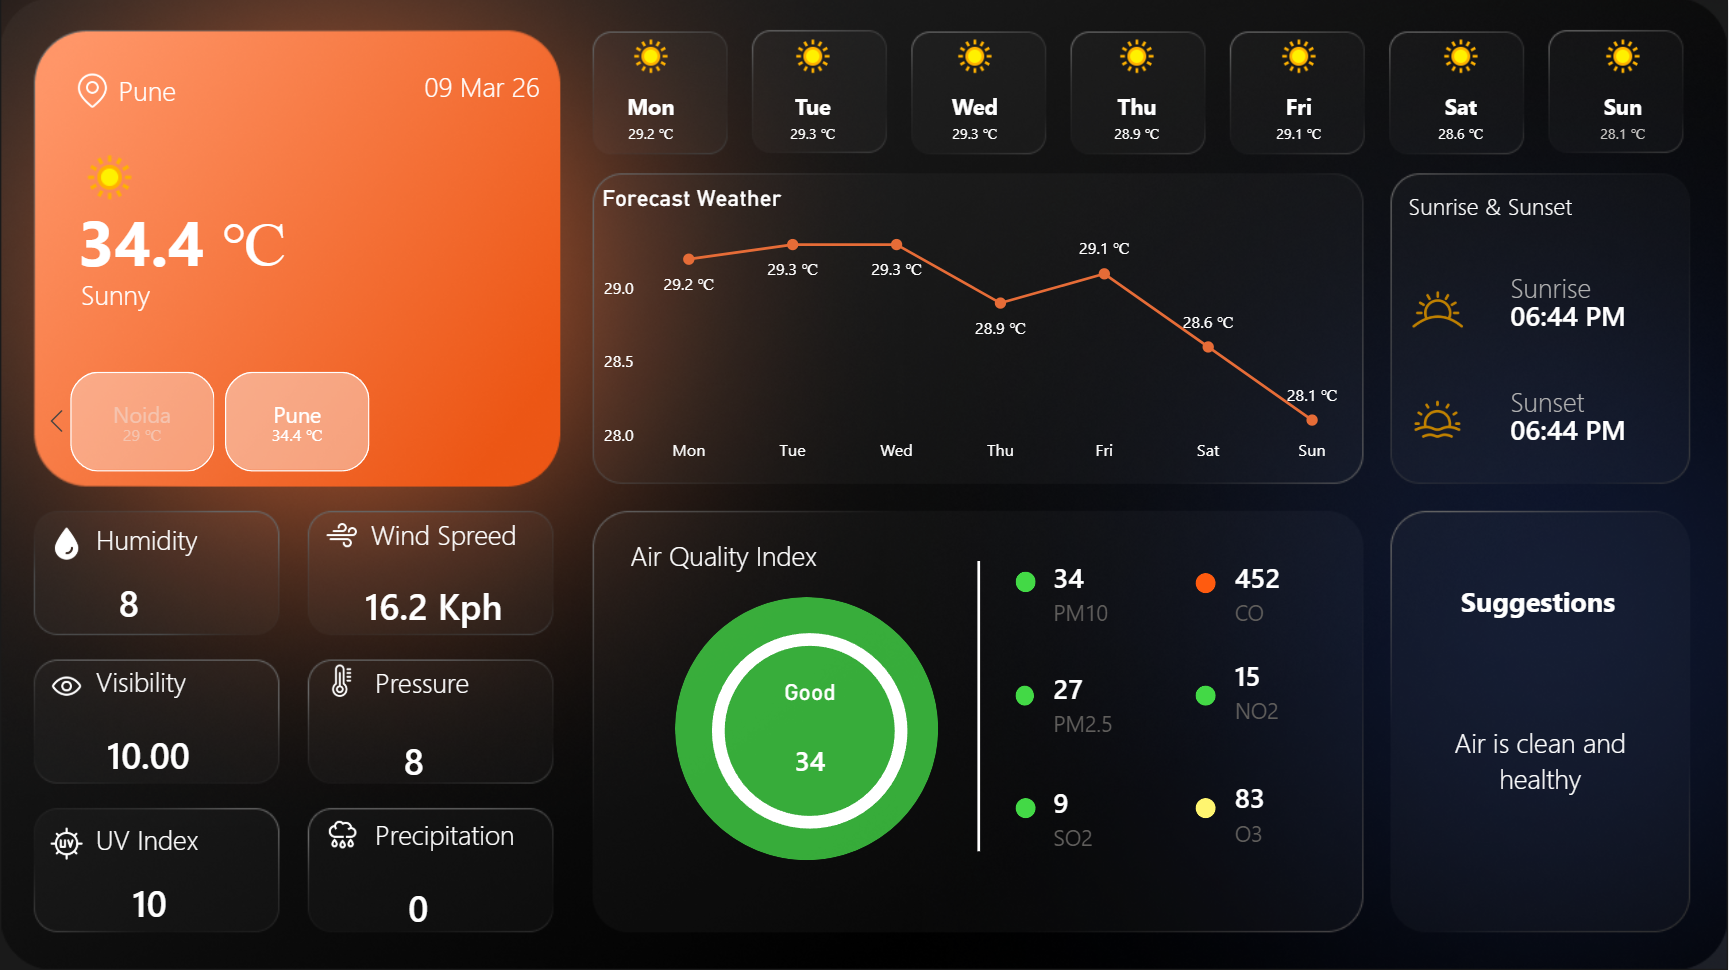

This screenshot's page, from the dashboard's own definition file:
{"tool":"powerbi","page":{"name":"Page 1","canvas":[1280,720],"ordinal":0},"visuals":[{"type":"shape","box":[500.2,442.2,195,195],"z":0},{"type":"advancedSlicerVisual","fields":{"Values":["Locations.location.name"]},"box":[27,270,387,84],"z":1000},{"type":"shape","box":[49.9,123.4,216.2,110],"z":2000},{"type":"shape","box":[58.2,202.7,216.4,30.9],"z":3000},{"type":"shape","box":[312.7,49.1,216.4,30.9],"z":4000},{"type":"shape","box":[85.6,51.1,216.7,31.7],"z":5000},{"type":"image","box":[51.1,54.4,34.4,25.6],"z":6000},{"type":"cardVisual","fields":{"Data":["Min(Current.current.condition.icon)"]},"box":[11.7,26.7,138.3,151.7],"z":7000},{"type":"shape","box":[68.3,488.3,215,31.7],"z":8000},{"type":"image","box":[36.7,495,25,25],"z":9000},{"type":"image","box":[36.7,390,25,25],"z":10000},{"type":"shape","box":[68.3,383.3,215,31.7],"z":11000},{"type":"image","box":[36.7,611.7,25,25],"z":12000},{"type":"shape","box":[68.3,605,215,31.7],"z":13000},{"type":"image","box":[241.4,384,24,24],"z":14000},{"type":"shape","box":[272,380,214,32],"z":15000},{"type":"image","box":[241.4,492,24,24],"z":16000},{"type":"shape","box":[276,490,214,30],"z":17000},{"type":"image","box":[240.9,605,25,25],"z":18000},{"type":"shape","box":[275,601.7,215,31.7],"z":19000},{"type":"cardVisual","fields":{"Data":["Sum(Current.current.humidity)"]},"box":[58.3,400,108.3,90],"z":20000},{"type":"cardVisual","fields":{"Data":["Sum(Current.current.vis_km)"]},"box":[50,511.7,135,90],"z":21000},{"type":"cardVisual","fields":{"Data":["Sum(Current.current.uv)"]},"box":[68.3,621.7,135,90],"z":22000},{"type":"cardVisual","fields":{"Data":["table.Wind_spreed"]},"box":[240.8,402,166,90],"z":23000},{"type":"cardVisual","fields":{"Data":["Sum(Current.current.humidity)"]},"box":[269.6,516.7,108.3,90],"z":24000},{"type":"cardVisual","fields":{"Data":["Sum(Current.current.precip_in)"]},"box":[272.9,625,101.7,90],"z":25000},{"type":"advancedSlicerVisual","fields":{"Values":["Forecast By Days.Day_name"]},"box":[421.2,13.8,847.5,110],"z":26000},{"type":"lineChart","title":"Forecast Weather","fields":{"Category":["Forecast By Days.Day_name"],"Y":["Sum(Forecast By Days.forecast.forecastday.day.avgtemp_c)"]},"box":[441.2,136.2,566.2,215],"z":27000},{"type":"shape","box":[1041.2,136.2,215,31.2],"z":28000},{"type":"shape","box":[1115,191.2,145,42.5],"z":29000},{"type":"shape","box":[1115,212.5,145,42.5],"z":30000},{"type":"shape","box":[1115,275,145,42.5],"z":31000},{"type":"shape","box":[1115,296.2,145,42.5],"z":32000},{"type":"image","box":[1048,292,34,36],"z":33000},{"type":"image","box":[1040,202,50,54],"z":34000},{"type":"shape","box":[464,396,214,32],"z":35000},{"type":"cardVisual","fields":{"Data":["Sum(Current.current.air_quality.co)"]},"box":[885.6,388.9,122.2,100],"z":36000},{"type":"cardVisual","fields":{"Data":["Sum(Current.current.air_quality.no2)"]},"box":[885.6,461.1,122.2,100],"z":37000},{"type":"cardVisual","fields":{"Data":["Sum(Current.current.air_quality.o3)"]},"box":[885.6,552.2,122.2,100],"z":38000},{"type":"cardVisual","fields":{"Data":["Sum(Current.current.air_quality.pm10)"]},"box":[751.1,388.9,122.2,100],"z":39000},{"type":"cardVisual","fields":{"Data":["Sum(Current.current.air_quality.pm2_5)"]},"box":[751.1,471.1,122.2,100],"z":40000},{"type":"cardVisual","fields":{"Data":["Sum(Current.current.air_quality.so2)"]},"box":[751.1,555.6,122.2,100],"z":41000},{"type":"shape","box":[751.7,423.7,15,15.4],"z":42000},{"type":"shape","box":[752.3,507.5,13.8,15],"z":43000},{"type":"shape","box":[751.7,591.2,15,15],"z":44000},{"type":"shape","box":[885,423.9,15,15],"z":45000},{"type":"shape","box":[885,507.5,15,15],"z":46000},{"type":"shape","box":[885,591.2,15,15],"z":47000},{"type":"shape","box":[650,415,150,215],"z":48000},{"type":"cardVisual","fields":{"Data":["Sum(Current.current.air_quality.pm10)"]},"box":[540,502,120,100],"z":49000},{"type":"donutChart","fields":{"Y":["Sum(Current.current.air_quality.pm10)","table.Left value Pm10"]},"box":[484,445,230,191],"z":50000},{"type":"shape","box":[1048,472,186,182],"z":50001},{"type":"shape","box":[1042,416,194,60],"z":50002}]}

Visuals, with their boxes in screenshot pixels (x1, y1, x2, y2), scaled from the page's 1280x720 canvas onto the 1729x970 screenshot:
shape: detection(676, 596, 939, 858)
advancedSlicerVisual - Locations.location.name: detection(36, 364, 559, 477)
shape: detection(67, 166, 359, 314)
shape: detection(79, 273, 371, 315)
shape: detection(422, 66, 715, 108)
shape: detection(116, 69, 408, 112)
image: detection(69, 73, 115, 108)
cardVisual - Min(Current.current.condition.icon): detection(16, 36, 203, 240)
shape: detection(92, 658, 383, 701)
image: detection(50, 667, 83, 701)
image: detection(50, 525, 83, 559)
shape: detection(92, 516, 383, 559)
image: detection(50, 824, 83, 858)
shape: detection(92, 815, 383, 858)
image: detection(326, 517, 358, 550)
shape: detection(367, 512, 656, 555)
image: detection(326, 663, 358, 695)
shape: detection(373, 660, 662, 701)
image: detection(325, 815, 359, 849)
shape: detection(371, 811, 662, 853)
cardVisual - Sum(Current.current.humidity): detection(79, 539, 225, 660)
cardVisual - Sum(Current.current.vis_km): detection(68, 689, 250, 811)
cardVisual - Sum(Current.current.uv): detection(92, 838, 275, 959)
cardVisual - table.Wind_spreed: detection(325, 542, 549, 663)
cardVisual - Sum(Current.current.humidity): detection(364, 696, 510, 817)
cardVisual - Sum(Current.current.precip_in): detection(369, 842, 506, 963)
advancedSlicerVisual - Forecast By Days.Day_name: detection(569, 19, 1714, 167)
"Forecast Weather" lineChart: detection(596, 183, 1361, 473)
shape: detection(1406, 183, 1697, 226)
shape: detection(1506, 258, 1702, 315)
shape: detection(1506, 286, 1702, 344)
shape: detection(1506, 370, 1702, 428)
shape: detection(1506, 399, 1702, 456)
image: detection(1416, 393, 1462, 442)
image: detection(1405, 272, 1472, 345)
shape: detection(627, 534, 916, 577)
cardVisual - Sum(Current.current.air_quality.co): detection(1196, 524, 1361, 659)
cardVisual - Sum(Current.current.air_quality.no2): detection(1196, 621, 1361, 756)
cardVisual - Sum(Current.current.air_quality.o3): detection(1196, 744, 1361, 879)
cardVisual - Sum(Current.current.air_quality.pm10): detection(1015, 524, 1180, 659)
cardVisual - Sum(Current.current.air_quality.pm2_5): detection(1015, 635, 1180, 769)
cardVisual - Sum(Current.current.air_quality.so2): detection(1015, 749, 1180, 883)
shape: detection(1015, 571, 1036, 592)
shape: detection(1016, 684, 1035, 704)
shape: detection(1015, 796, 1036, 817)
shape: detection(1195, 571, 1216, 591)
shape: detection(1195, 684, 1216, 704)
shape: detection(1195, 796, 1216, 817)
shape: detection(878, 559, 1081, 849)
cardVisual - Sum(Current.current.air_quality.pm10): detection(729, 676, 892, 811)
donutChart - Sum(Current.current.air_quality.pm10) x table.Left value Pm10: detection(654, 600, 964, 857)
shape: detection(1416, 636, 1667, 881)
shape: detection(1408, 560, 1670, 641)
